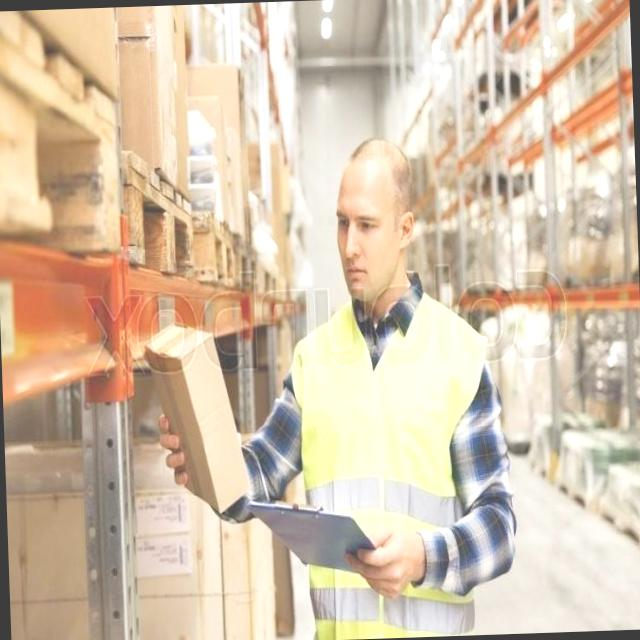vest: (266, 293, 475, 636)
